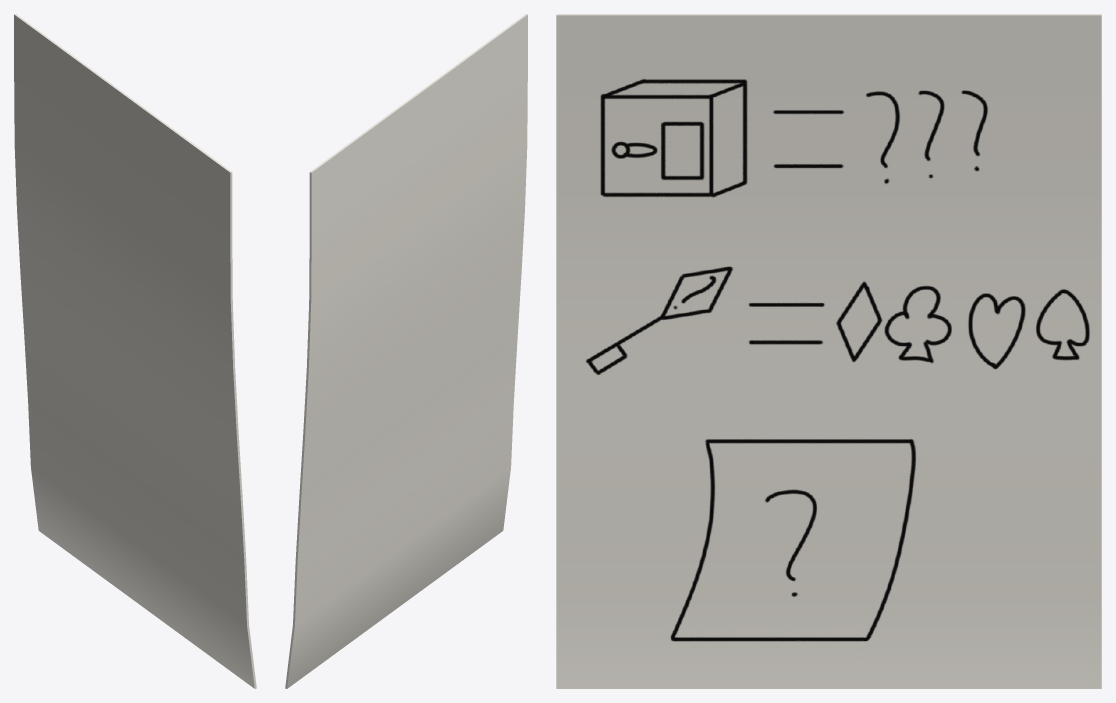
The model's file is Other Plan.fbx.
The picture shows the model from 3 angles, left to right: view 1: azimuth 30°, elevation 25°; view 2: azimuth 150°, elevation 25°; view 3: azimuth 270°, elevation 25°; orthographic projection. The views are drawn at different scales.
Visible parts, largest first — view 1: Cube; view 2: Cube; view 3: Cube.
Part boxes in pixels (x1=…): Cube: x1=14, y1=14, x2=256, y2=688; Cube: x1=285, y1=14, x2=527, y2=688; Cube: x1=556, y1=14, x2=1101, y2=688.
Bounding box in the file's own units: 26.6 × 500 × 375.
